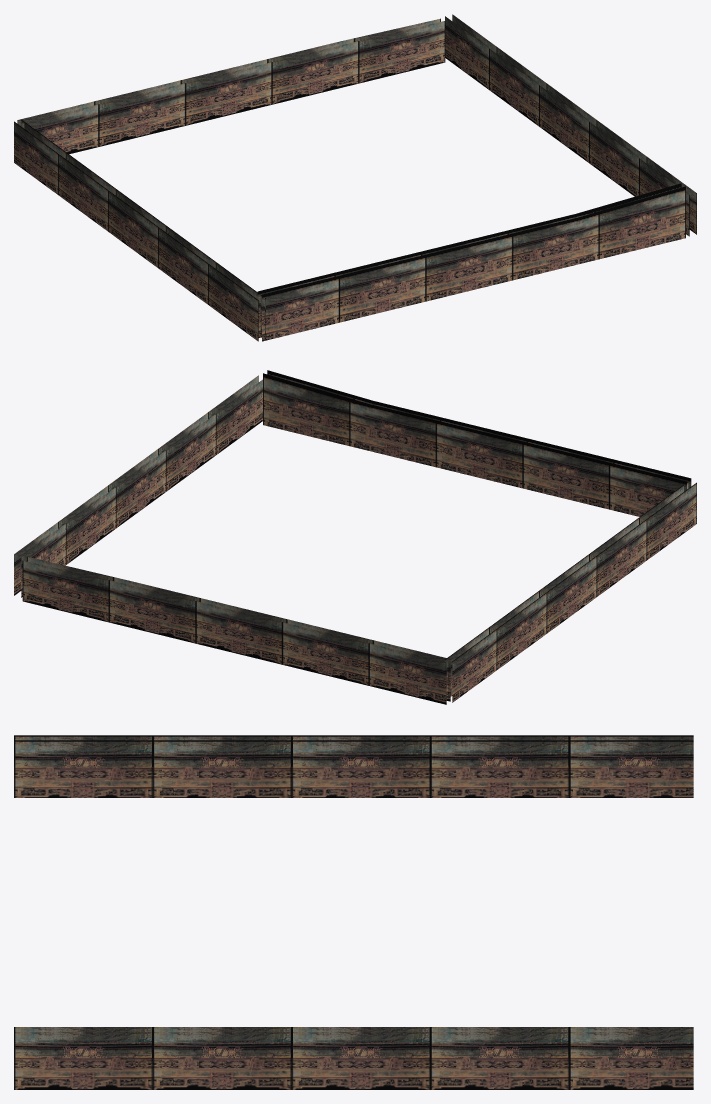
3 renders of one model, top to bottom at view 1: azimuth 30°, elevation 25°; view 2: azimuth 150°, elevation 25°; view 3: azimuth 270°, elevation 25°, orthographic. The views are drawn at different scales.
Parts seen in each view (by area): view 1: Plane05; view 2: Plane05; view 3: Plane05.
Part boxes in pixels (x1=…): Plane05: x1=14, y1=14, x2=696, y2=341; Plane05: x1=14, y1=370, x2=696, y2=704; Plane05: x1=14, y1=735, x2=693, y2=1089.
Bounding box in the file's own units: 295 × 33.53 × 287.
